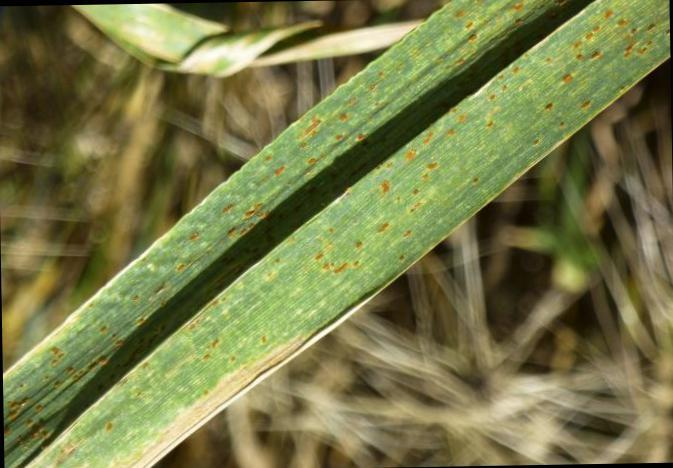Wheat: (285, 114, 479, 295)
